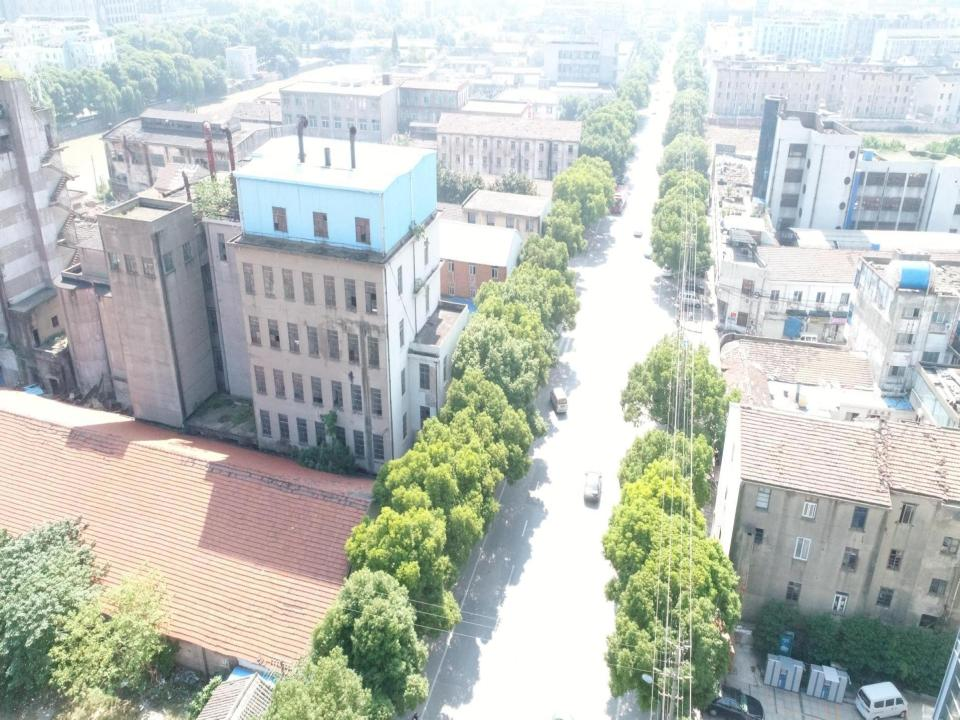bus: (609, 181, 627, 213)
car: (711, 684, 765, 720), (582, 468, 603, 505), (684, 280, 704, 295), (633, 224, 643, 238)
van: (854, 679, 910, 719), (548, 386, 568, 414), (679, 292, 699, 310)
